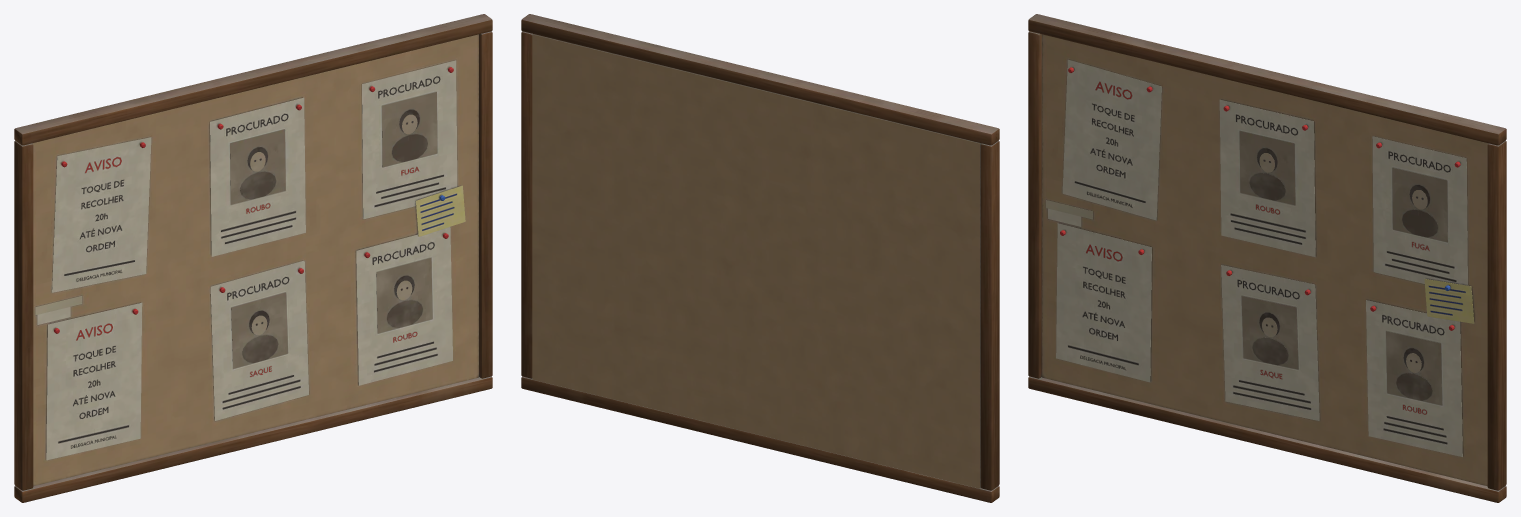
The model's file is quadro_procurados.glb.
3 renders of one model, left to right at view 1: azimuth 30°, elevation 25°; view 2: azimuth 150°, elevation 25°; view 3: azimuth 330°, elevation 25°, orthographic.
Parts seen in each view (by area): view 1: quadro; view 2: quadro; view 3: quadro.
Part boxes in pixels (x1,y1,x2,y2): quadro: (14, 14, 492, 502); quadro: (521, 14, 999, 502); quadro: (1028, 14, 1506, 502).
Bounding box in the file's own units: 1.2 × 0.9 × 0.043.
Materials: 1 (1 with a texture image).
